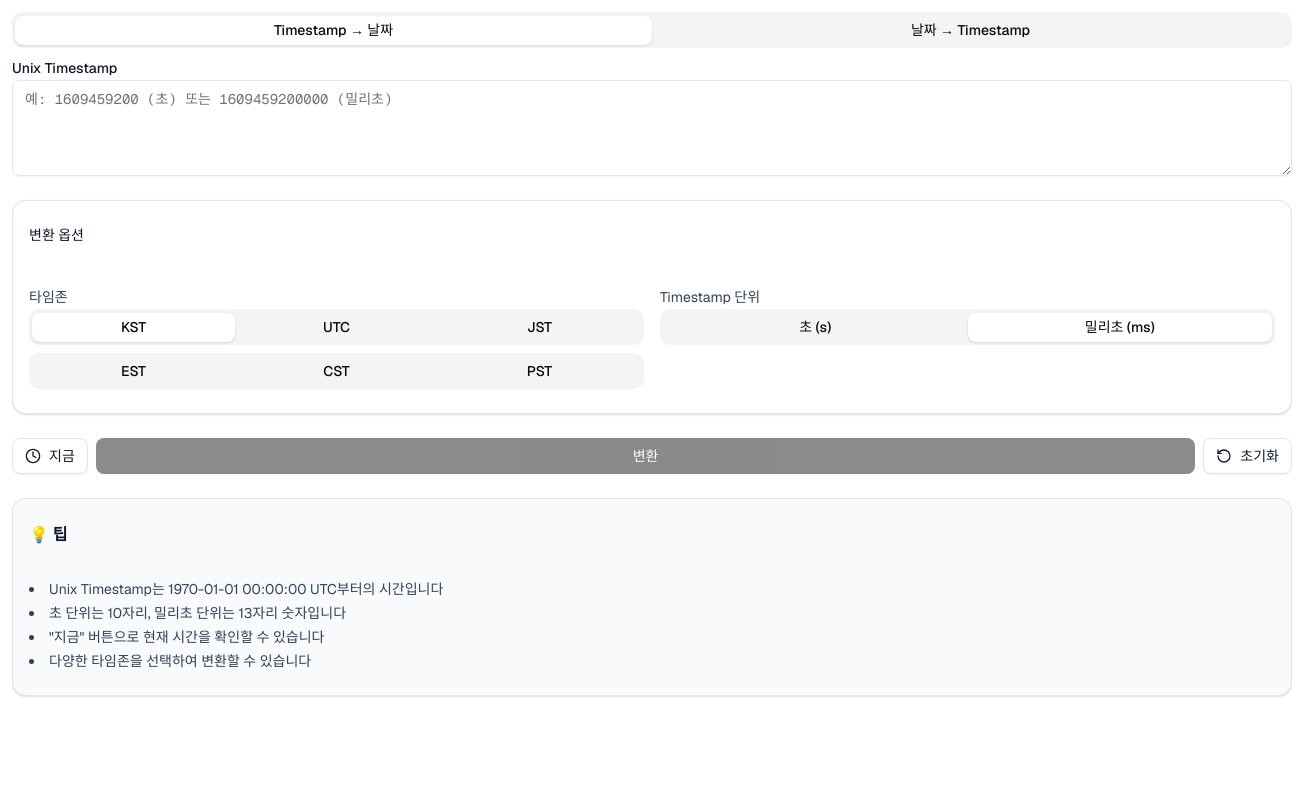
Test case: TimestampConverter Component › 모드 전환 테스트 › 모드 변경 시 결과 초기화
The width and height of the screenshot is (1304, 812).
Type "1609459200" into the text box with placeholder "예: 1609459200 (초) 또는 1609459200000 (밀리초)".
click(652, 128); type("1609459200")  # box [12,80,1292,176]
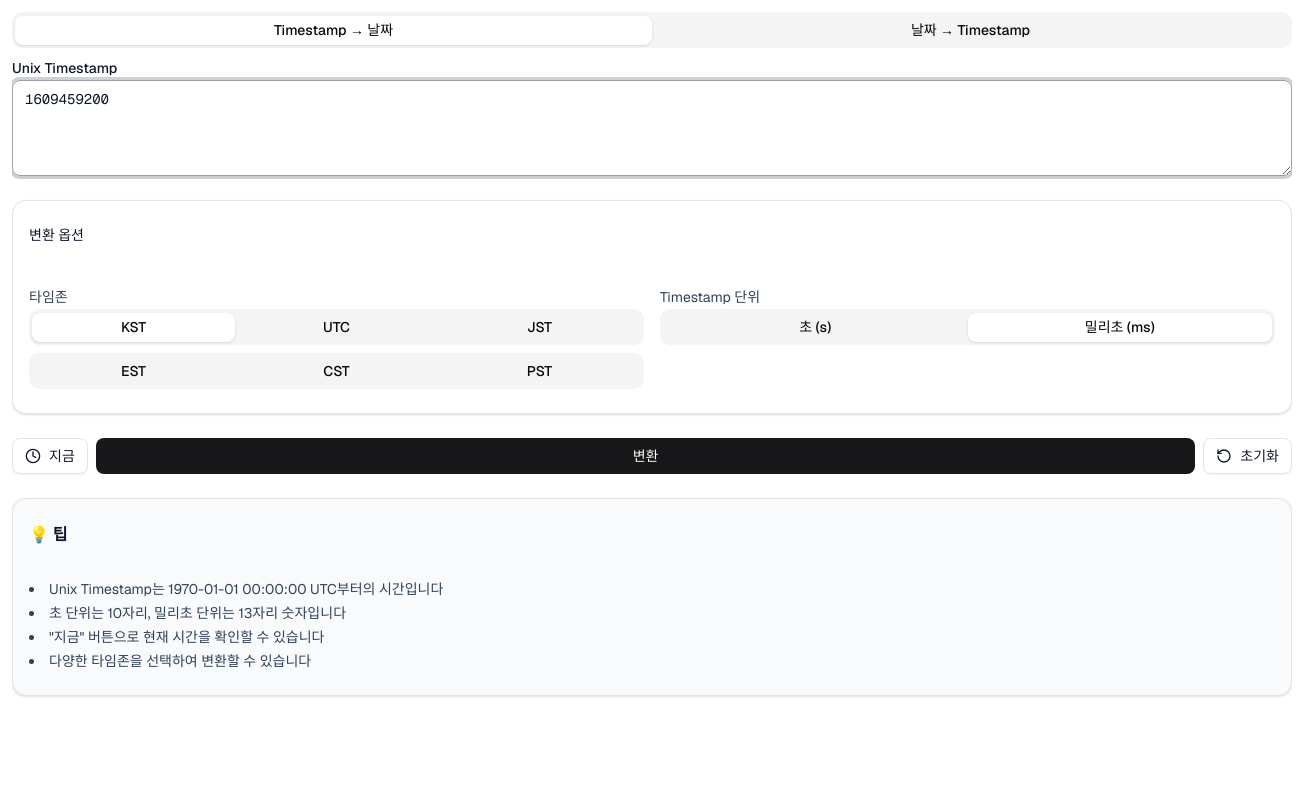
Click the button "변환".
click(646, 456)  # box [96,438,1195,474]
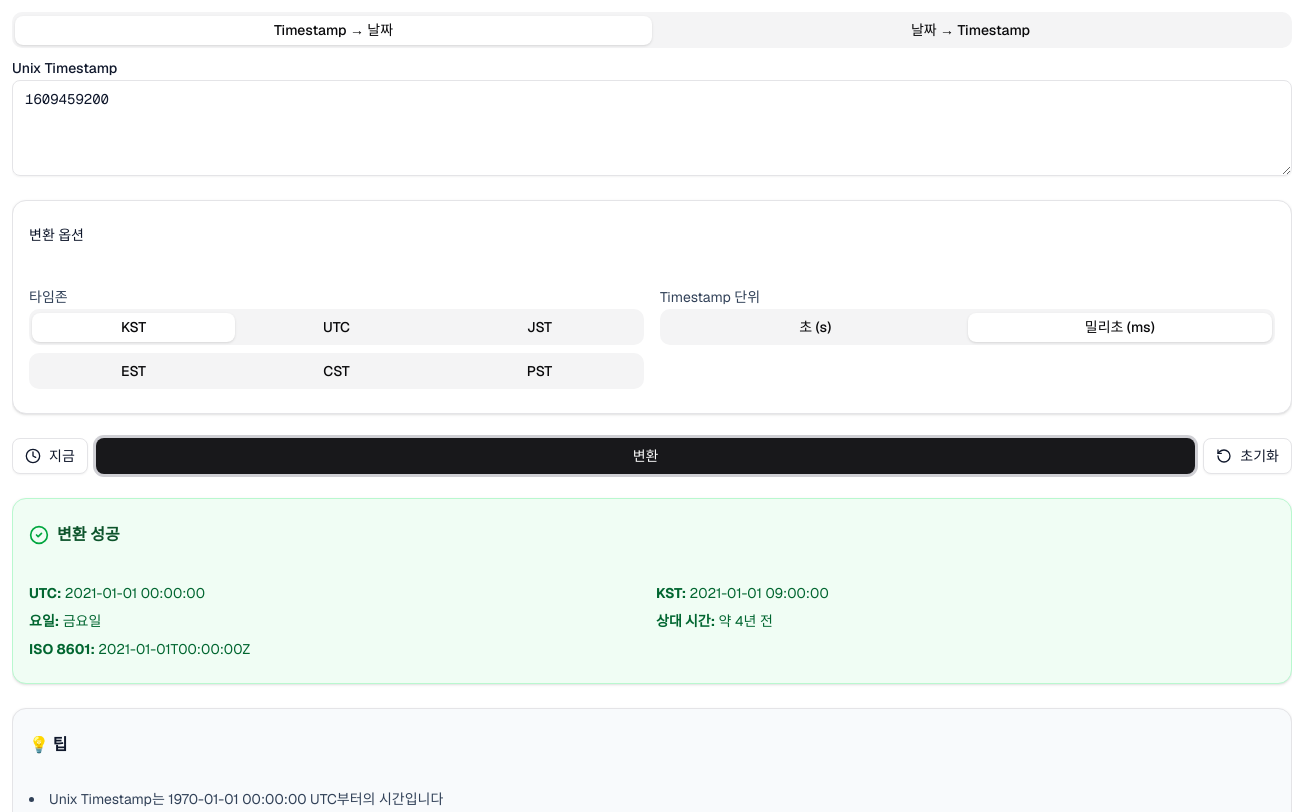
Expected: the heading "변환 성공" is shown, [57,523,120,547]
Click the tab "날짜 → Timestamp".
click(970, 30)  # box [652,16,1289,44]
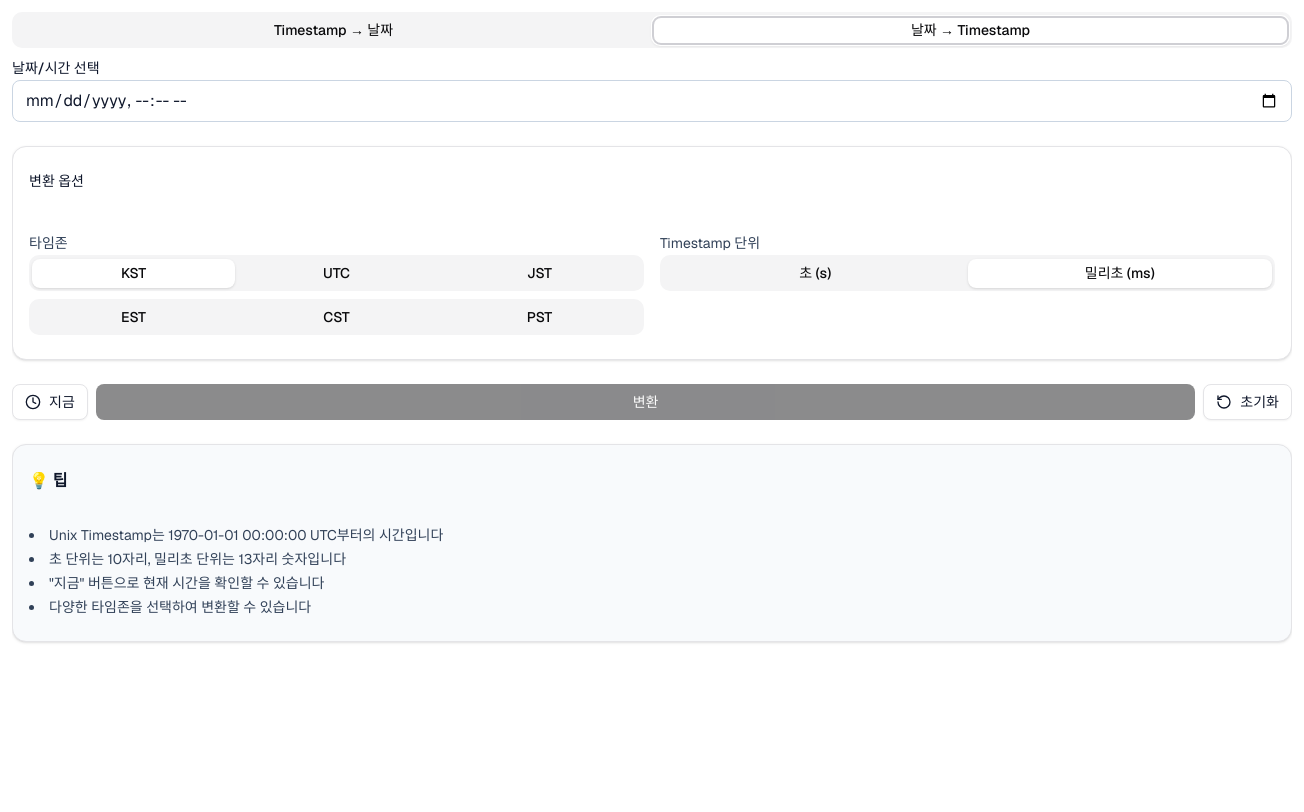
Expected: the heading "변환 성공" is gone
